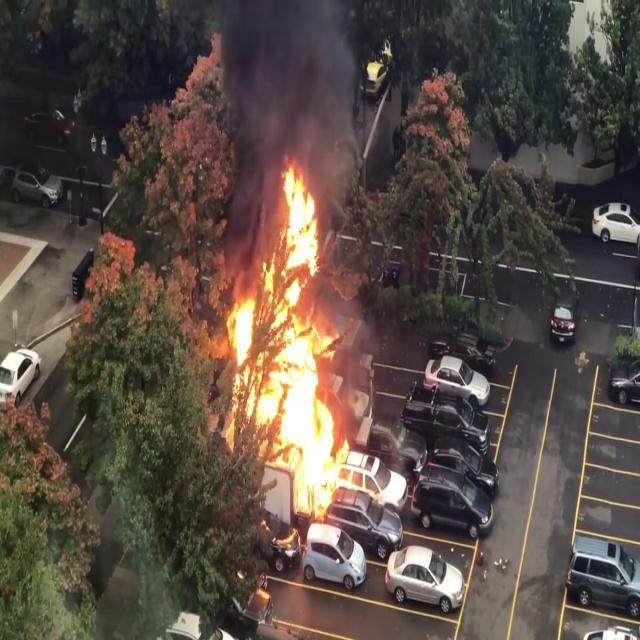Fire: (220, 162, 374, 525)
Smoke: (208, 0, 374, 190)
